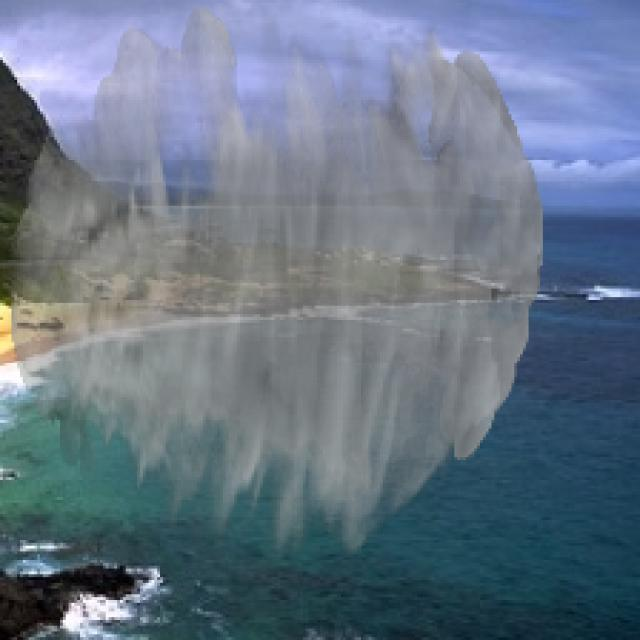smoke: (8, 6, 543, 563)
